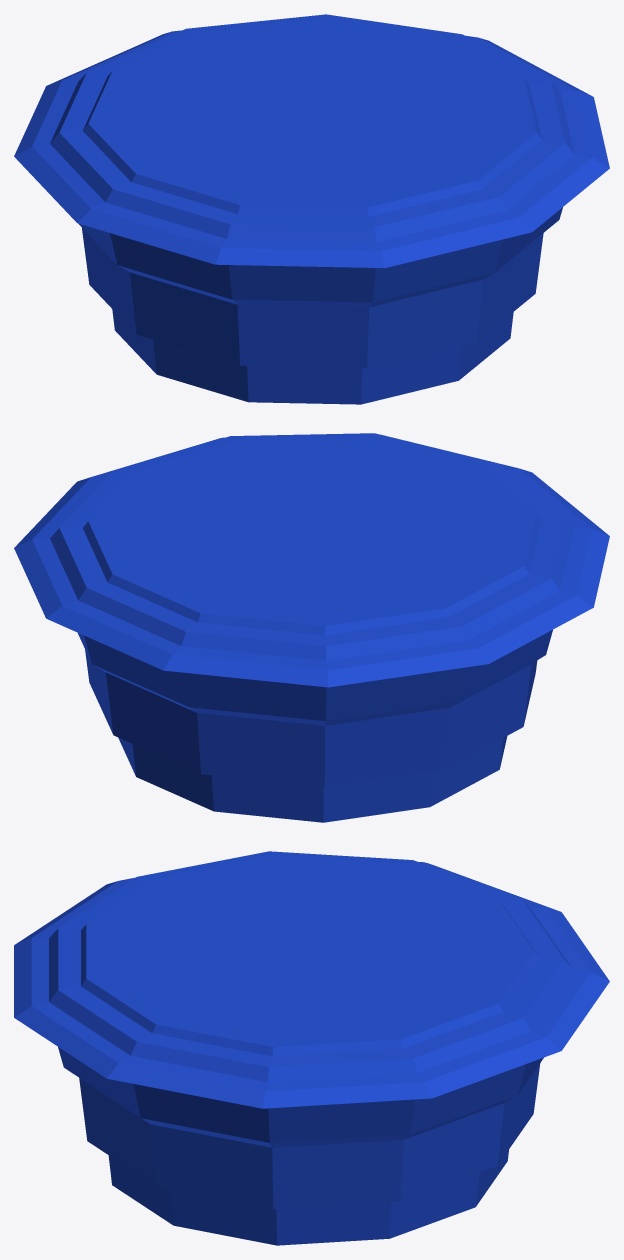
The model's file is Tanque_agua.fbx.
3 views of the same model, one above another, from view 1: azimuth 30°, elevation 25°; view 2: azimuth 150°, elevation 25°; view 3: azimuth 270°, elevation 25° (orthographic).
Parts seen in each view (by area): view 1: Cylinder.001, Cylinder; view 2: Cylinder.001, Cylinder; view 3: Cylinder.001, Cylinder.
Part boxes in pixels (box(x1,y1,x2,y2)): Cylinder.001: box(14, 14, 609, 268); Cylinder: box(78, 207, 562, 404); Cylinder.001: box(14, 433, 609, 687); Cylinder: box(78, 630, 552, 822); Cylinder.001: box(14, 851, 609, 1108); Cylinder: box(58, 1047, 543, 1245).
Bounding box in the file's own units: 291 × 112 × 288.
